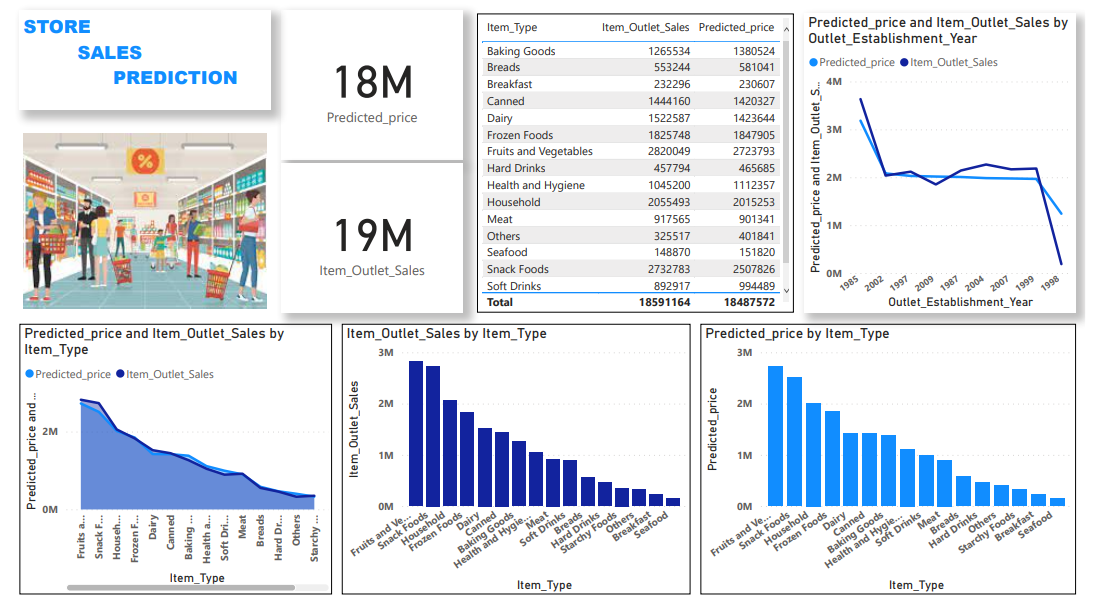

Layout of this report page (visuals, bound fields, positions):
{"tool":"powerbi","page":{"name":"Page 1","canvas":[1280,720],"ordinal":0},"visuals":[{"type":"areaChart","fields":{"Y":["Sum(Sales_Prediction.Predicted_price)","Sum(Sales_Prediction.Item_Outlet_Sales)"],"Category":["Sales_Prediction.Item_Type"]},"box":[11.5,386.6,372.2,321.9],"z":0},{"type":"card","fields":{"Values":["Sum(Sales_Prediction.Predicted_price)"]},"box":[323.4,12.9,215.6,178.2],"z":1},{"type":"card","fields":{"Values":["Sum(Sales_Prediction.Item_Outlet_Sales)"]},"box":[323.4,195.4,215.6,178.2],"z":2},{"type":"tableEx","fields":{"Values":["Sales_Prediction.Item_Type","Sum(Sales_Prediction.Item_Outlet_Sales)","Sum(Sales_Prediction.Predicted_price)"]},"box":[556.2,17.2,376.5,356.4],"z":3},{"type":"columnChart","fields":{"Category":["Train.Item_Type"],"Y":["Sum(Sales_Prediction.Predicted_price)"]},"box":[822,386.6,446.9,321.9],"z":4},{"type":"clusteredColumnChart","fields":{"Y":["Sum(Train.Item_Outlet_Sales)"],"Category":["Sales_Prediction.Item_Type"]},"box":[395.2,386.6,415.3,321.9],"z":5},{"type":"lineChart","fields":{"Y":["Sum(Sales_Prediction.Predicted_price)","Sum(Sales_Prediction.Item_Outlet_Sales)"],"Category":["Sales_Prediction.Outlet_Establishment_Year"]},"box":[945.6,17.2,323.4,356.4],"z":6},{"type":"textbox","box":[11.5,12.9,298.9,119.3],"z":7},{"type":"image","box":[11.5,155.2,298.9,218.4],"z":8}]}

Visuals, with their boxes in screenshot pixels (x1, y1, x2, y2), scaled from the page's 1280x720 canvas onto the 1098x605 screenshot:
areaChart - Sum(Sales_Prediction.Predicted_price) x Sum(Sales_Prediction.Item_Outlet_Sales): 10, 325, 329, 595
card - Sum(Sales_Prediction.Predicted_price): 277, 11, 462, 161
card - Sum(Sales_Prediction.Item_Outlet_Sales): 277, 164, 462, 314
tableEx - Sales_Prediction.Item_Type x Sum(Sales_Prediction.Item_Outlet_Sales): 477, 14, 800, 314
columnChart - Train.Item_Type x Sum(Sales_Prediction.Predicted_price): 705, 325, 1088, 595
clusteredColumnChart - Sum(Train.Item_Outlet_Sales) x Sales_Prediction.Item_Type: 339, 325, 695, 595
lineChart - Sum(Sales_Prediction.Predicted_price) x Sum(Sales_Prediction.Item_Outlet_Sales): 811, 14, 1089, 314
textbox: 10, 11, 266, 111
image: 10, 130, 266, 314
